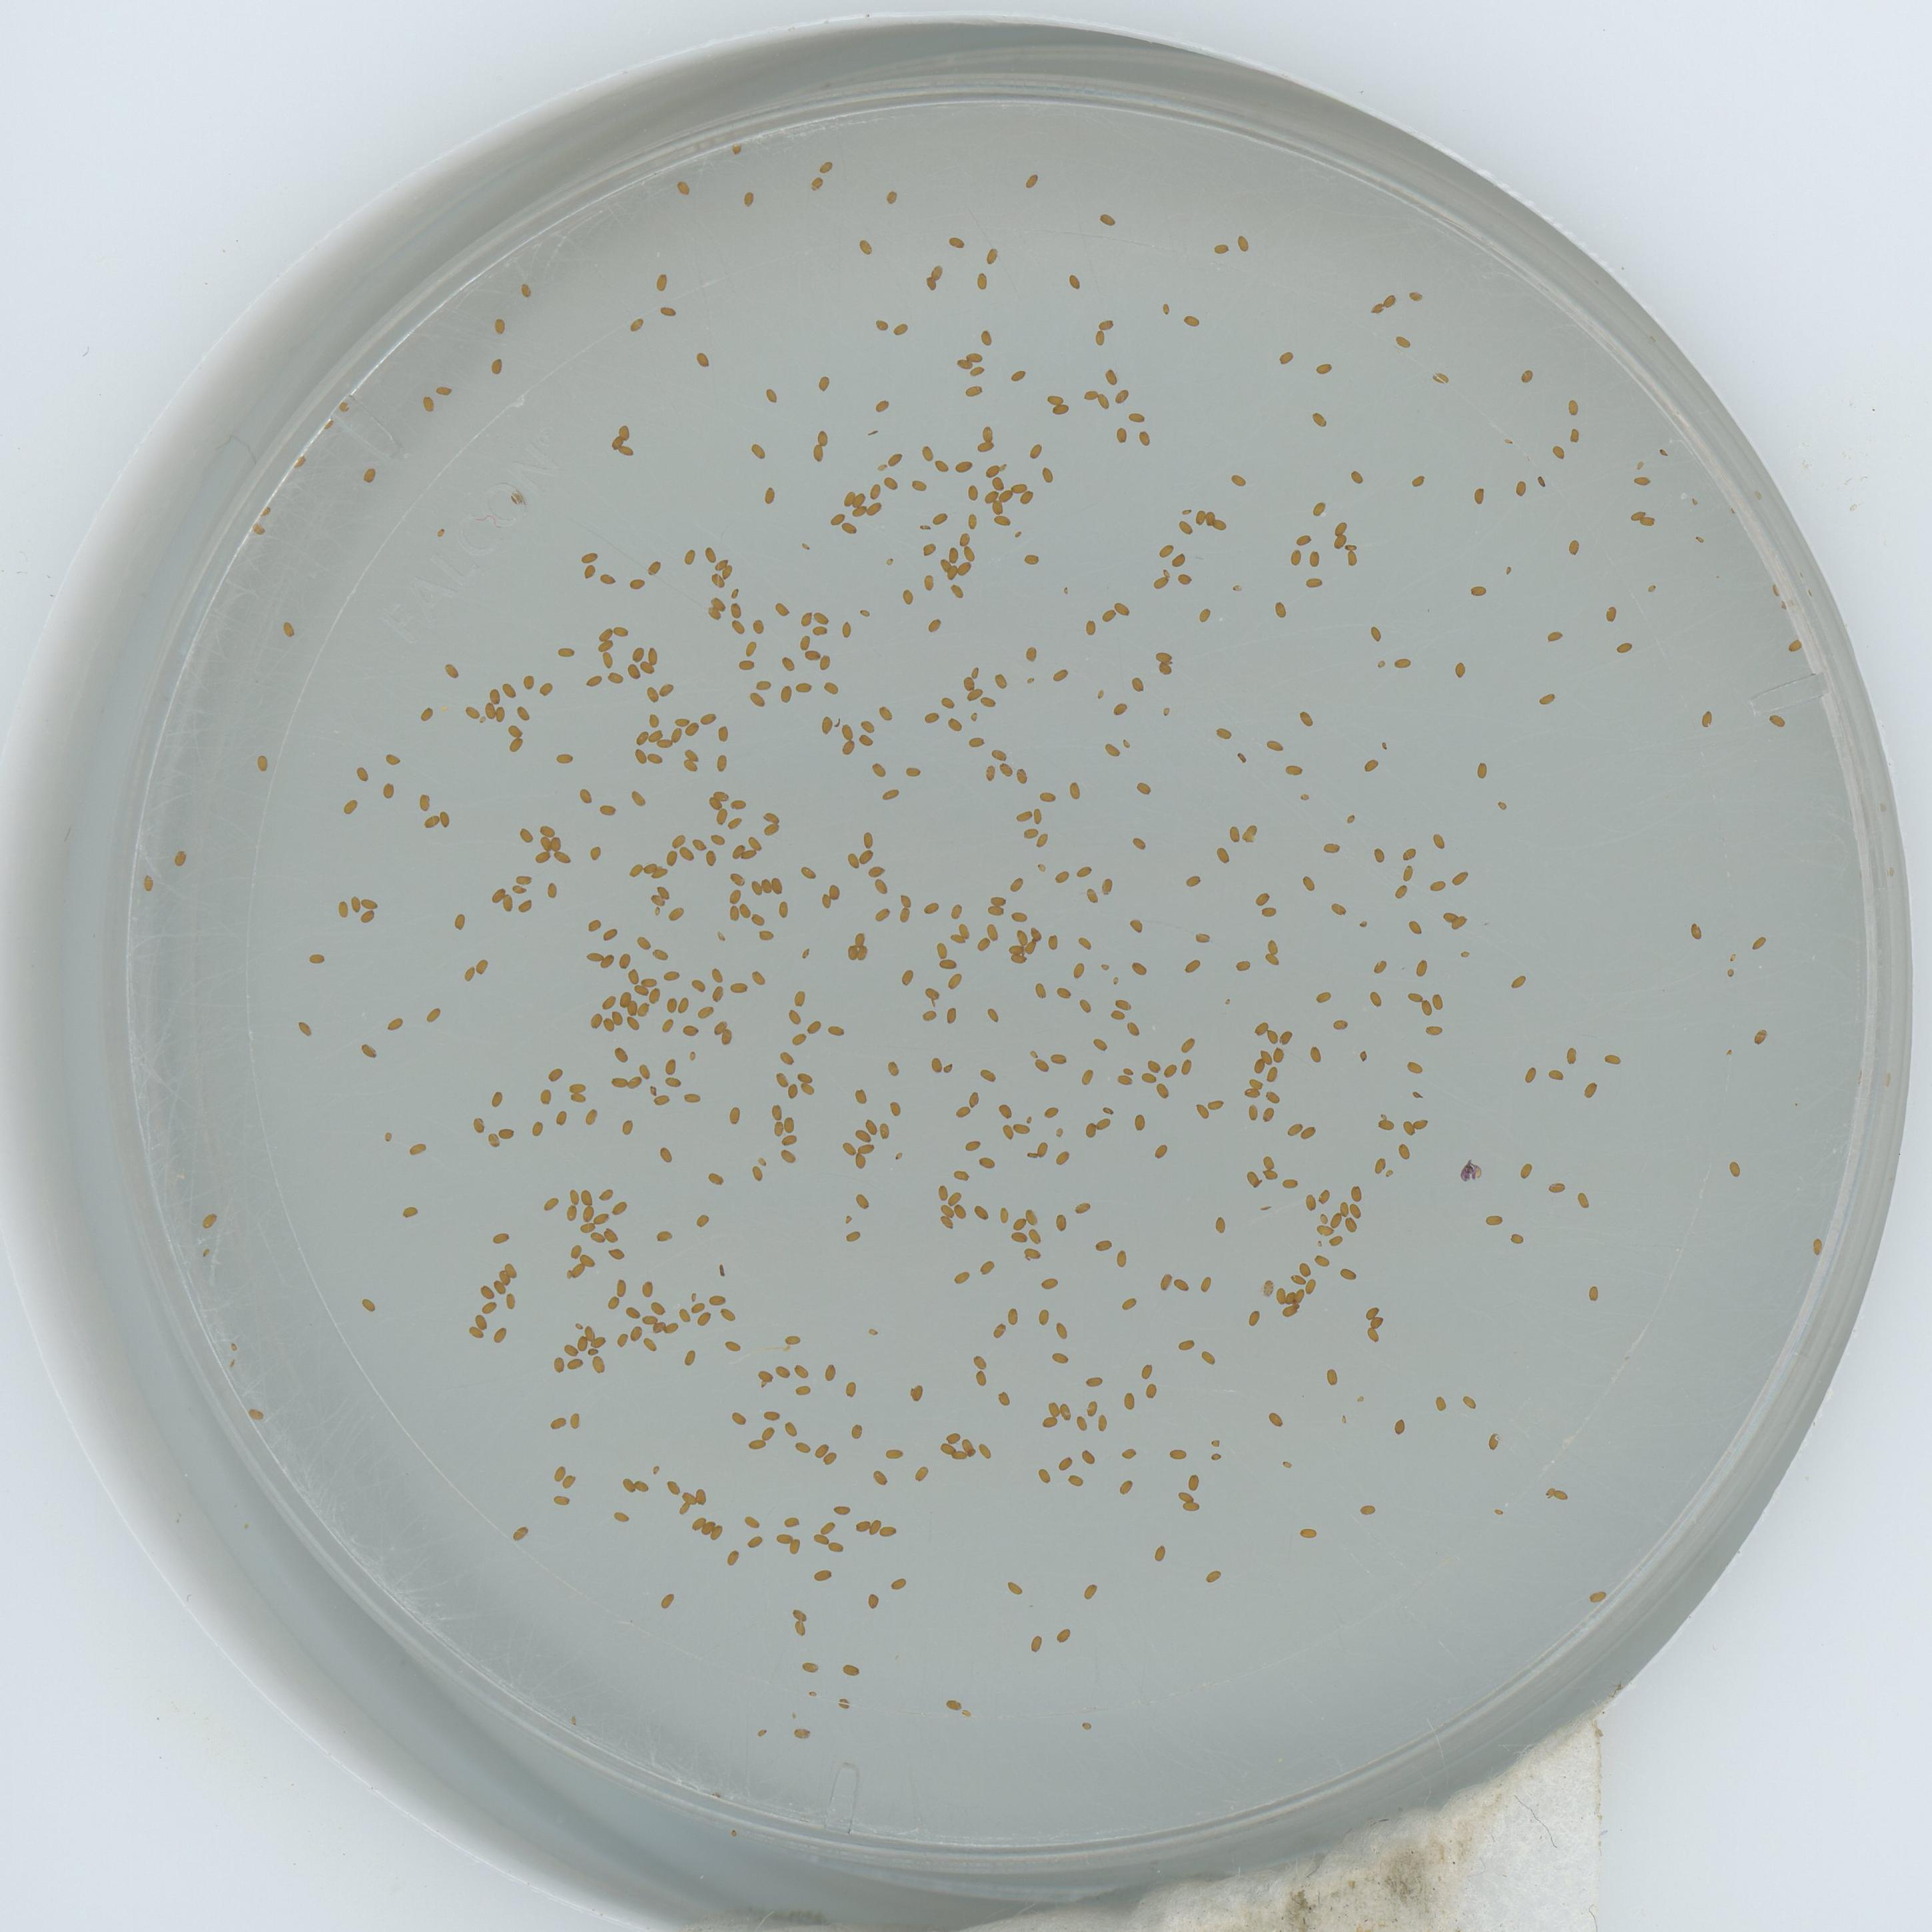seed: (725, 1106, 747, 1129), (1090, 1033, 1111, 1054), (1021, 1207, 1042, 1228), (690, 1212, 713, 1231), (612, 1277, 632, 1300), (1111, 1247, 1131, 1270), (1244, 1168, 1263, 1191), (872, 396, 893, 416), (637, 1279, 656, 1300), (945, 971, 964, 993), (656, 1145, 676, 1166), (962, 382, 984, 402), (1092, 1235, 1111, 1256), (1049, 1047, 1069, 1069), (971, 1203, 993, 1223), (1051, 1322, 1070, 1343), (1306, 1044, 1325, 1065), (1072, 1198, 1093, 1217), (1083, 1371, 1106, 1389), (598, 952, 617, 971), (941, 955, 961, 975), (490, 1228, 510, 1247), (681, 1350, 701, 1369), (952, 1265, 971, 1284), (786, 1537, 805, 1557), (1168, 550, 1187, 570), (1097, 211, 1116, 230), (1173, 1276, 1192, 1295), (1196, 1276, 1215, 1295), (1118, 1391, 1138, 1410), (474, 955, 492, 977), (552, 1108, 570, 1129), (791, 1725, 812, 1743), (1049, 1348, 1070, 1366), (1065, 1472, 1086, 1490), (1392, 1141, 1414, 1159), (1246, 1307, 1263, 1329), (1212, 1214, 1228, 1237), (1270, 1046, 1286, 1069), (929, 510, 948, 527), (580, 547, 600, 564), (748, 692, 768, 709), (499, 679, 518, 697), (651, 945, 671, 962), (577, 787, 596, 805), (754, 676, 773, 694), (713, 725, 732, 743), (490, 1325, 510, 1343), (890, 1575, 909, 1592), (747, 1532, 766, 1550), (564, 1242, 582, 1261), (603, 1226, 623, 1244), (663, 1477, 683, 1495), (853, 1086, 872, 1104), (821, 1362, 840, 1380), (545, 1067, 564, 1085), (941, 1007, 959, 1026), (628, 1325, 646, 1345), (485, 1132, 504, 1150), (906, 1384, 925, 1401), (579, 1187, 596, 1207), (502, 1261, 520, 1281), (579, 1207, 598, 1224), (1428, 878, 1447, 895), (1063, 782, 1083, 800), (1345, 548, 1362, 568), (1155, 541, 1175, 559), (1033, 465, 1053, 483), (1399, 846, 1419, 863), (1430, 833, 1449, 851), (982, 924, 1001, 941), (1031, 1056, 1049, 1076), (1265, 1410, 1284, 1428), (1313, 1249, 1332, 1267), (1338, 1263, 1357, 1281), (1207, 1095, 1226, 1113), (1430, 993, 1447, 1012), (1168, 1444, 1187, 1461), (1010, 1118, 1030, 1136), (253, 754, 271, 773), (170, 849, 188, 869), (142, 874, 159, 893), (653, 271, 669, 292), (596, 639, 617, 655), (740, 189, 755, 211), (883, 1445, 904, 1461), (619, 1116, 635, 1138), (872, 1470, 893, 1486), (472, 1115, 488, 1136), (927, 1054, 943, 1076), (708, 1522, 724, 1543), (952, 1104, 973, 1120), (1304, 550, 1325, 566), (1007, 1230, 1028, 1246), (1253, 1017, 1269, 1039), (1371, 1155, 1387, 1177), (1155, 1272, 1171, 1293), (1054, 1212, 1070, 1233), (1182, 957, 1203, 973), (1180, 1500, 1201, 1516), (676, 179, 692, 200), (950, 1168, 973, 1182), (1753, 1026, 1767, 1049), (1810, 1237, 1824, 1260), (743, 639, 761, 656), (872, 761, 890, 778), (780, 655, 798, 672), (347, 895, 364, 913), (602, 924, 619, 941), (662, 851, 679, 869), (920, 573, 938, 591), (635, 932, 653, 950), (656, 681, 674, 699), (883, 474, 901, 492), (878, 704, 895, 722), (543, 883, 561, 901), (899, 587, 916, 605), (778, 685, 796, 702), (416, 794, 433, 812), (798, 633, 816, 651), (442, 662, 460, 679), (761, 487, 778, 504), (694, 350, 711, 368), (713, 754, 731, 771), (630, 789, 648, 807), (782, 1419, 800, 1437), (488, 1090, 506, 1108), (725, 1548, 743, 1566), (612, 1046, 630, 1063), (775, 1361, 793, 1378), (708, 1168, 725, 1185), (386, 1014, 403, 1031), (708, 1292, 725, 1309), (855, 1191, 872, 1208), (968, 732, 985, 750), (1451, 870, 1468, 888), (1037, 787, 1054, 805), (1026, 924, 1044, 941), (1021, 644, 1039, 662), (1182, 310, 1200, 327), (1214, 847, 1231, 865), (1286, 548, 1304, 566), (1184, 872, 1201, 890), (991, 672, 1008, 690), (1470, 487, 1488, 504), (1132, 428, 1150, 446), (1100, 366, 1118, 384), (975, 934, 993, 952), (1265, 736, 1283, 754), (1688, 922, 1706, 939), (1474, 763, 1491, 780), (978, 1065, 996, 1083), (996, 1389, 1014, 1407), (1026, 1635, 1044, 1652), (1079, 1582, 1097, 1599), (1322, 1368, 1339, 1385), (1391, 1417, 1408, 1435), (996, 1099, 1014, 1116), (1582, 1079, 1599, 1097), (994, 1207, 1012, 1224), (1203, 1568, 1221, 1585), (1348, 1185, 1366, 1203), (1033, 1307, 1051, 1325), (1727, 1159, 1744, 1177), (1412, 959, 1430, 977), (1279, 1173, 1297, 1191), (1154, 1081, 1171, 1099), (1033, 1139, 1051, 1157), (1263, 1028, 1281, 1046), (1371, 957, 1389, 975), (955, 924, 973, 941), (828, 510, 847, 525), (642, 686, 662, 702), (709, 832, 729, 847), (945, 717, 964, 732), (952, 458, 971, 474), (648, 893, 667, 909), (911, 1465, 931, 1481), (778, 1049, 798, 1065), (842, 1660, 862, 1675), (529, 1120, 545, 1139), (695, 1001, 715, 1017), (359, 1040, 379, 1056), (878, 1523, 897, 1539), (580, 1251, 596, 1270), (582, 1108, 598, 1127), (563, 1203, 579, 1223), (778, 1132, 798, 1148), (609, 1008, 625, 1028), (1008, 908, 1028, 924), (1405, 918, 1424, 934), (1044, 932, 1060, 952), (1537, 690, 1557, 706), (1111, 386, 1131, 402), (1109, 701, 1129, 717), (987, 890, 1007, 906), (1023, 172, 1039, 191), (1767, 713, 1787, 729), (1111, 600, 1131, 616), (1021, 1246, 1040, 1261), (1192, 1100, 1208, 1120), (1039, 1414, 1058, 1430), (1405, 1060, 1424, 1076), (991, 1322, 1007, 1341), (1079, 1447, 1095, 1467), (1177, 1491, 1196, 1507), (1003, 1309, 1023, 1325), (1033, 1468, 1053, 1484), (1152, 1545, 1168, 1564), (1484, 1208, 1504, 1224), (1603, 1049, 1622, 1065), (1054, 1148, 1070, 1168), (1233, 957, 1253, 973), (359, 895, 379, 911), (200, 1212, 219, 1228), (617, 950, 632, 971), (713, 1017, 727, 1039), (855, 1141, 876, 1155), (869, 1516, 883, 1537), (934, 1182, 948, 1203), (1097, 609, 1118, 623), (977, 1155, 998, 1169), (1302, 1192, 1316, 1214), (1261, 1279, 1276, 1300), (961, 1438, 975, 1460), (727, 870, 745, 886), (918, 444, 936, 460), (612, 623, 630, 639), (876, 906, 893, 922), (816, 375, 833, 391), (924, 709, 941, 725), (924, 901, 941, 916), (520, 674, 538, 690), (423, 812, 439, 830), (844, 855, 862, 870), (451, 913, 469, 929), (925, 617, 943, 633), (699, 709, 717, 725), (660, 303, 678, 318), (823, 679, 840, 695), (586, 916, 603, 932), (580, 564, 598, 580), (379, 782, 396, 798), (904, 764, 922, 780), (888, 449, 904, 467), (897, 893, 915, 909), (869, 863, 886, 879), (600, 801, 617, 817), (646, 559, 663, 575), (702, 547, 720, 563), (508, 736, 524, 754), (800, 867, 817, 883), (419, 706, 437, 722), (858, 734, 876, 750), (600, 570, 617, 586), (750, 617, 768, 633), (839, 724, 856, 740), (341, 798, 357, 816), (617, 423, 633, 441), (511, 883, 529, 899), (628, 575, 646, 591), (462, 704, 479, 720), (883, 787, 901, 803), (713, 809, 729, 826), (587, 846, 605, 862), (945, 904, 962, 920), (796, 679, 814, 695), (840, 520, 856, 538), (856, 237, 874, 253), (681, 548, 699, 564), (557, 750, 573, 768), (628, 646, 646, 662), (947, 584, 964, 600), (810, 446, 828, 462), (713, 786, 731, 801), (775, 901, 791, 918), (598, 626, 614, 644), (513, 704, 531, 720), (803, 648, 821, 663), (860, 718, 878, 734), (640, 862, 658, 878), (819, 718, 837, 734), (950, 931, 966, 948), (334, 901, 350, 918), (419, 395, 437, 410), (361, 467, 379, 483), (655, 885, 672, 901), (833, 1500, 851, 1516), (780, 1146, 798, 1162), (763, 1408, 780, 1424), (359, 1295, 377, 1311), (610, 1198, 628, 1214), (623, 1304, 640, 1320), (548, 1415, 566, 1431), (409, 1139, 426, 1155), (840, 1139, 858, 1155), (658, 1592, 676, 1608), (855, 1516, 870, 1534), (690, 977, 708, 993), (609, 1246, 626, 1261), (761, 1424, 778, 1440), (511, 1525, 529, 1541), (844, 1380, 862, 1396), (543, 1194, 561, 1210), (612, 1330, 630, 1346), (598, 1187, 616, 1203), (794, 1438, 812, 1454), (297, 1017, 313, 1035), (791, 989, 809, 1005), (814, 1530, 830, 1548), (633, 1477, 651, 1493), (695, 1311, 713, 1327), (720, 1306, 738, 1322), (688, 1516, 706, 1532), (642, 1336, 660, 1352), (663, 1056, 679, 1074), (729, 978, 747, 994), (497, 1125, 515, 1141), (637, 1062, 655, 1077), (502, 1292, 518, 1309), (844, 1228, 862, 1244), (589, 1357, 607, 1373), (617, 989, 633, 1007), (478, 1283, 495, 1299), (591, 1332, 609, 1348), (577, 1221, 594, 1237), (1284, 761, 1302, 777), (1046, 391, 1063, 407), (1051, 869, 1069, 885), (1253, 890, 1270, 906), (1099, 878, 1115, 895), (1368, 625, 1384, 642), (1617, 639, 1635, 655), (1192, 931, 1210, 947), (1177, 518, 1192, 536), (1008, 366, 1026, 382), (1293, 531, 1311, 547), (1315, 359, 1332, 375), (1382, 292, 1398, 310), (1369, 847, 1387, 863), (1603, 605, 1619, 623), (1228, 471, 1246, 487), (1224, 826, 1242, 842), (1212, 239, 1230, 255), (1026, 442, 1044, 458), (1566, 538, 1582, 556), (1102, 741, 1120, 757), (1297, 709, 1315, 725), (1304, 575, 1322, 591), (1074, 863, 1090, 881), (1154, 646, 1171, 662), (1270, 602, 1288, 617), (980, 423, 996, 441), (1012, 929, 1030, 945), (1700, 709, 1716, 727), (984, 248, 1001, 264), (1127, 918, 1145, 934), (1134, 780, 1152, 796), (1309, 501, 1327, 517), (1399, 867, 1417, 883), (1177, 571, 1194, 587), (1546, 626, 1564, 642), (1633, 472, 1651, 488), (1214, 725, 1231, 741), (1468, 582, 1486, 598), (1323, 840, 1341, 856), (1300, 876, 1316, 893), (1235, 234, 1251, 251), (1074, 934, 1092, 950), (1311, 410, 1327, 428), (964, 350, 982, 366), (1111, 426, 1129, 442), (1453, 915, 1470, 931), (1152, 575, 1169, 591), (1369, 299, 1387, 315), (989, 501, 1005, 518), (1155, 662, 1173, 678), (1752, 934, 1769, 950), (961, 545, 977, 563), (982, 488, 998, 506), (1359, 1500, 1376, 1516), (1315, 987, 1332, 1003), (1585, 1284, 1603, 1300), (1509, 973, 1527, 989), (1136, 1362, 1154, 1378), (1184, 1474, 1201, 1490), (1424, 1021, 1442, 1037), (1076, 998, 1093, 1014), (971, 1369, 989, 1385), (1548, 1178, 1566, 1194), (1039, 1274, 1056, 1290), (1562, 1047, 1580, 1063), (1546, 1065, 1564, 1081), (1575, 1191, 1592, 1207), (1263, 1065, 1279, 1083), (1299, 1523, 1316, 1539), (978, 1258, 996, 1274), (1056, 1456, 1074, 1472), (1040, 1102, 1058, 1118), (1095, 1116, 1111, 1134), (1131, 1115, 1148, 1131), (1178, 1037, 1196, 1053), (1120, 1293, 1136, 1311), (1399, 1118, 1415, 1136), (1177, 1336, 1194, 1352), (1198, 1348, 1215, 1364), (998, 1122, 1014, 1139), (1005, 1580, 1023, 1596), (1299, 1123, 1316, 1139), (1152, 1141, 1169, 1157), (1116, 1479, 1134, 1495), (1141, 1382, 1159, 1398), (1026, 1226, 1042, 1244), (1297, 1260, 1313, 1277), (1348, 1201, 1364, 1219), (1161, 1060, 1177, 1077), (977, 1442, 993, 1460), (1131, 961, 1148, 977), (258, 504, 276, 520), (510, 492, 527, 508), (633, 982, 651, 998), (246, 1407, 264, 1422), (1553, 1490, 1571, 1506), (681, 761, 701, 775), (538, 833, 552, 853), (844, 943, 858, 962), (945, 1697, 964, 1711), (814, 1568, 833, 1582), (568, 1081, 587, 1095), (639, 1313, 658, 1327), (978, 695, 998, 709), (993, 515, 1012, 529), (1049, 667, 1069, 681), (1049, 402, 1069, 416), (1315, 1223, 1334, 1237), (1246, 1102, 1260, 1122), (1325, 1233, 1345, 1247), (1058, 1403, 1072, 1422), (1070, 961, 1085, 980), (1304, 1279, 1318, 1299), (835, 1697, 855, 1711), (1295, 1286, 1309, 1306), (750, 1162, 763, 1184), (685, 747, 701, 763), (669, 906, 685, 922), (922, 540, 938, 556), (948, 234, 964, 249), (798, 612, 814, 628), (586, 947, 602, 962), (559, 644, 575, 660), (893, 320, 909, 336), (862, 832, 878, 847), (626, 863, 642, 879), (729, 602, 745, 617), (874, 879, 890, 895), (518, 828, 534, 844), (632, 750, 648, 766), (819, 157, 835, 173), (354, 766, 370, 782), (810, 175, 826, 191), (702, 851, 718, 867), (711, 596, 727, 612), (867, 501, 883, 517), (839, 623, 855, 639), (587, 672, 603, 688), (897, 908, 913, 924), (869, 483, 885, 499), (439, 812, 455, 828), (934, 941, 950, 957), (600, 651, 616, 667), (488, 888, 504, 904), (538, 681, 554, 697), (731, 619, 747, 635), (538, 821, 554, 837), (384, 752, 400, 768), (633, 729, 649, 745), (771, 878, 787, 893), (816, 428, 832, 444), (817, 893, 833, 909), (679, 846, 695, 862), (487, 686, 502, 702), (556, 851, 571, 867), (750, 442, 766, 458), (607, 435, 623, 451), (840, 741, 856, 757), (764, 386, 780, 402), (775, 600, 791, 616), (499, 895, 515, 911), (924, 276, 939, 292), (853, 929, 869, 945), (488, 357, 504, 373), (817, 655, 833, 671), (669, 729, 685, 745), (281, 621, 297, 637), (750, 911, 766, 927), (518, 283, 534, 299), (885, 189, 901, 205), (492, 317, 508, 333), (554, 1493, 570, 1509), (787, 1008, 803, 1024), (709, 985, 725, 1001), (786, 1330, 801, 1346), (665, 1074, 681, 1090), (796, 1382, 812, 1398), (888, 1100, 904, 1116), (426, 1005, 442, 1021), (720, 1028, 736, 1044), (786, 1083, 801, 1099), (481, 1299, 497, 1315), (568, 1412, 584, 1428), (550, 1355, 566, 1371), (849, 1422, 865, 1438), (867, 1592, 883, 1608), (791, 1605, 807, 1621), (610, 1072, 626, 1088), (614, 1507, 630, 1523), (879, 1123, 895, 1139), (745, 1514, 761, 1530), (587, 1012, 603, 1028), (683, 1021, 699, 1037), (807, 1017, 823, 1033), (538, 1090, 554, 1106), (663, 996, 679, 1012), (402, 1203, 418, 1219), (855, 1125, 870, 1141), (656, 1228, 672, 1244), (460, 966, 476, 982), (750, 970, 766, 985), (770, 1100, 786, 1116), (625, 1016, 640, 1031), (660, 1016, 676, 1031), (709, 966, 725, 982), (885, 1062, 901, 1077), (757, 1366, 773, 1382), (570, 1263, 586, 1279), (750, 1437, 766, 1453), (793, 1621, 809, 1637), (648, 987, 663, 1003), (550, 1465, 566, 1481), (798, 1067, 814, 1083), (770, 1120, 786, 1136), (626, 968, 642, 984), (492, 1277, 508, 1293), (637, 1000, 653, 1016), (651, 1322, 667, 1338), (1097, 315, 1113, 331), (1513, 479, 1529, 495), (991, 747, 1007, 763), (1453, 662, 1468, 678), (1330, 901, 1346, 916), (1012, 481, 1028, 497), (1014, 770, 1030, 786), (1065, 272, 1081, 288), (1129, 678, 1145, 694), (1394, 885, 1410, 901), (1552, 444, 1568, 460), (1081, 619, 1097, 635), (991, 474, 1007, 490), (978, 329, 994, 345), (1394, 655, 1410, 671), (980, 766, 996, 782), (975, 272, 991, 288), (1277, 349, 1293, 364), (1394, 333, 1410, 349), (984, 462, 1000, 478), (1568, 426, 1583, 442), (1196, 607, 1212, 623), (1244, 826, 1260, 842), (1265, 938, 1281, 954), (1131, 837, 1146, 853), (1090, 329, 1106, 345), (1520, 366, 1536, 382), (1362, 757, 1378, 773), (966, 513, 982, 529), (1330, 534, 1346, 550), (1431, 370, 1447, 386), (1115, 994, 1131, 1010), (1263, 1088, 1279, 1104), (1054, 1628, 1070, 1644), (1414, 1115, 1430, 1131), (1332, 1016, 1348, 1031), (1260, 1152, 1276, 1168), (1279, 1026, 1295, 1042), (1260, 1106, 1276, 1122), (1072, 1415, 1088, 1431), (1033, 982, 1049, 998), (971, 1353, 987, 1369), (1316, 1189, 1332, 1205), (1093, 1415, 1109, 1431), (1364, 1327, 1380, 1343), (1417, 1000, 1433, 1016), (1178, 1060, 1194, 1076), (1077, 1069, 1093, 1085), (1368, 991, 1384, 1007), (1523, 1065, 1539, 1081), (1286, 1120, 1302, 1136), (1484, 1433, 1500, 1449), (1433, 1394, 1449, 1410), (1509, 1230, 1525, 1246), (1461, 1392, 1477, 1408), (1083, 1399, 1099, 1415), (1145, 1058, 1161, 1074), (1518, 1161, 1534, 1177), (966, 1136, 982, 1152), (966, 1090, 982, 1106), (1589, 1587, 1605, 1603), (985, 1007, 1001, 1023), (1290, 1270, 1306, 1286), (1099, 1100, 1115, 1116), (336, 400, 352, 416), (322, 416, 338, 432), (249, 522, 265, 538), (504, 722, 522, 736), (932, 458, 950, 472), (731, 798, 748, 812), (909, 478, 927, 492), (648, 646, 662, 663), (747, 835, 764, 849), (671, 833, 688, 847), (860, 851, 878, 865), (849, 504, 867, 518), (515, 872, 533, 886), (709, 570, 724, 587), (617, 442, 635, 456), (708, 798, 725, 812), (957, 563, 975, 577), (683, 1090, 701, 1104), (600, 994, 617, 1008), (784, 1514, 801, 1529), (594, 1210, 612, 1224), (724, 1338, 741, 1352), (821, 1520, 839, 1534), (731, 1410, 748, 1424), (814, 1444, 832, 1458), (605, 1295, 623, 1309), (801, 1660, 819, 1674), (945, 1431, 962, 1445), (640, 975, 658, 989), (626, 1076, 644, 1090), (566, 1187, 580, 1205), (561, 1341, 579, 1355), (938, 1215, 955, 1230), (602, 1017, 619, 1031), (1330, 520, 1348, 534), (1014, 809, 1031, 823), (1127, 409, 1145, 423), (1093, 395, 1111, 409), (1210, 518, 1228, 533), (985, 904, 1003, 918), (966, 483, 980, 501), (1261, 950, 1279, 964), (1054, 984, 1072, 998), (1138, 1070, 1155, 1085), (1362, 1304, 1380, 1318), (1407, 989, 1424, 1003), (1108, 1008, 1125, 1023), (1251, 1058, 1265, 1076), (1281, 1302, 1299, 1316), (1274, 1286, 1288, 1304), (1376, 1116, 1394, 1131), (1046, 1399, 1060, 1417), (701, 1520, 715, 1537), (761, 878, 775, 895), (485, 702, 497, 722), (858, 945, 870, 964), (1008, 954, 1028, 966), (1083, 1122, 1095, 1141), (1284, 1288, 1297, 1307), (1007, 941, 1026, 954), (310, 952, 326, 966), (727, 817, 743, 832), (764, 810, 780, 824), (694, 837, 708, 853), (359, 909, 375, 924), (812, 625, 828, 639), (740, 658, 755, 672), (640, 662, 656, 676), (876, 317, 890, 333), (814, 610, 830, 625), (646, 713, 662, 727), (534, 849, 550, 863), (828, 885, 842, 901), (626, 662, 640, 678), (674, 715, 690, 729), (947, 547, 961, 563), (741, 849, 757, 863), (939, 695, 955, 709), (931, 264, 945, 280), (518, 899, 534, 913), (628, 317, 644, 331), (729, 844, 745, 858), (494, 706, 508, 722), (607, 671, 623, 685), (759, 927, 775, 941), (727, 890, 743, 904), (435, 384, 451, 398), (653, 865, 669, 879), (656, 738, 672, 752), (725, 904, 740, 920), (708, 607, 724, 621), (718, 566, 732, 582), (955, 356, 971, 370), (791, 1030, 807, 1044), (621, 1477, 637, 1491), (649, 1300, 665, 1315), (947, 1191, 962, 1205), (653, 1093, 669, 1108), (901, 968, 915, 984), (925, 985, 939, 1001), (773, 1070, 789, 1085), (922, 1007, 938, 1021), (784, 1115, 798, 1131), (566, 1357, 582, 1371), (467, 1325, 483, 1339), (563, 1476, 579, 1490), (855, 1152, 869, 1168), (828, 1541, 844, 1555), (828, 1021, 844, 1035), (775, 1530, 791, 1545), (794, 1362, 810, 1376), (690, 1300, 706, 1315), (665, 1322, 681, 1336), (474, 1313, 490, 1327), (939, 1442, 955, 1456), (602, 1016, 616, 1031), (952, 1203, 966, 1219), (575, 1336, 589, 1352), (863, 1120, 879, 1134), (685, 1047, 699, 1063), (1017, 490, 1033, 504), (1021, 826, 1037, 840), (1008, 878, 1024, 892), (996, 763, 1012, 777), (1260, 906, 1276, 920), (1566, 400, 1582, 414), (1023, 552, 1039, 566), (1033, 833, 1049, 847), (970, 364, 985, 379), (1348, 469, 1364, 483), (1081, 387, 1097, 402), (1083, 890, 1099, 904), (1407, 288, 1422, 303), (1440, 908, 1456, 922), (977, 439, 993, 453), (1785, 639, 1801, 653), (1120, 1445, 1136, 1460), (1012, 1217, 1028, 1231), (1125, 1021, 1141, 1035), (1208, 1451, 1224, 1465), (1051, 1125, 1067, 1139), (1343, 1217, 1359, 1231), (1329, 1212, 1343, 1228), (1339, 1196, 1350, 1217), (292, 455, 308, 469), (499, 1269, 513, 1284), (968, 686, 982, 702), (961, 676, 975, 692), (729, 142, 743, 157), (663, 970, 681, 982), (570, 1093, 587, 1106), (1638, 515, 1656, 527), (1261, 1168, 1279, 1180), (1369, 1316, 1387, 1329), (1242, 1086, 1260, 1099), (1118, 1065, 1136, 1077), (1115, 1072, 1132, 1085), (649, 752, 663, 766), (938, 557, 952, 571), (548, 837, 563, 851), (740, 904, 754, 918), (842, 492, 856, 506), (855, 490, 869, 504), (717, 556, 731, 570), (676, 1307, 690, 1322), (938, 1203, 952, 1217), (803, 1083, 817, 1097), (681, 1490, 695, 1504), (584, 1322, 598, 1336), (625, 1000, 639, 1014), (1410, 474, 1424, 488), (998, 488, 1012, 502), (1192, 510, 1207, 524), (1157, 301, 1171, 315), (1316, 1210, 1330, 1224), (1026, 1047, 1040, 1062), (679, 1500, 694, 1514), (952, 1449, 966, 1463), (685, 724, 701, 736), (764, 824, 780, 837), (945, 564, 957, 580), (649, 729, 665, 741), (589, 1231, 605, 1244), (1629, 508, 1645, 520), (1031, 809, 1044, 824), (970, 663, 982, 679), (1203, 508, 1215, 524), (1258, 1047, 1270, 1063), (695, 1488, 706, 1506), (750, 881, 763, 895), (959, 533, 971, 547), (678, 998, 690, 1012), (824, 1453, 839, 1465), (1725, 966, 1737, 980), (589, 1346, 602, 1361), (1247, 1077, 1263, 1088), (435, 527, 448, 540), (649, 895, 663, 906), (1081, 1721, 1095, 1732), (1024, 943, 1035, 955)
